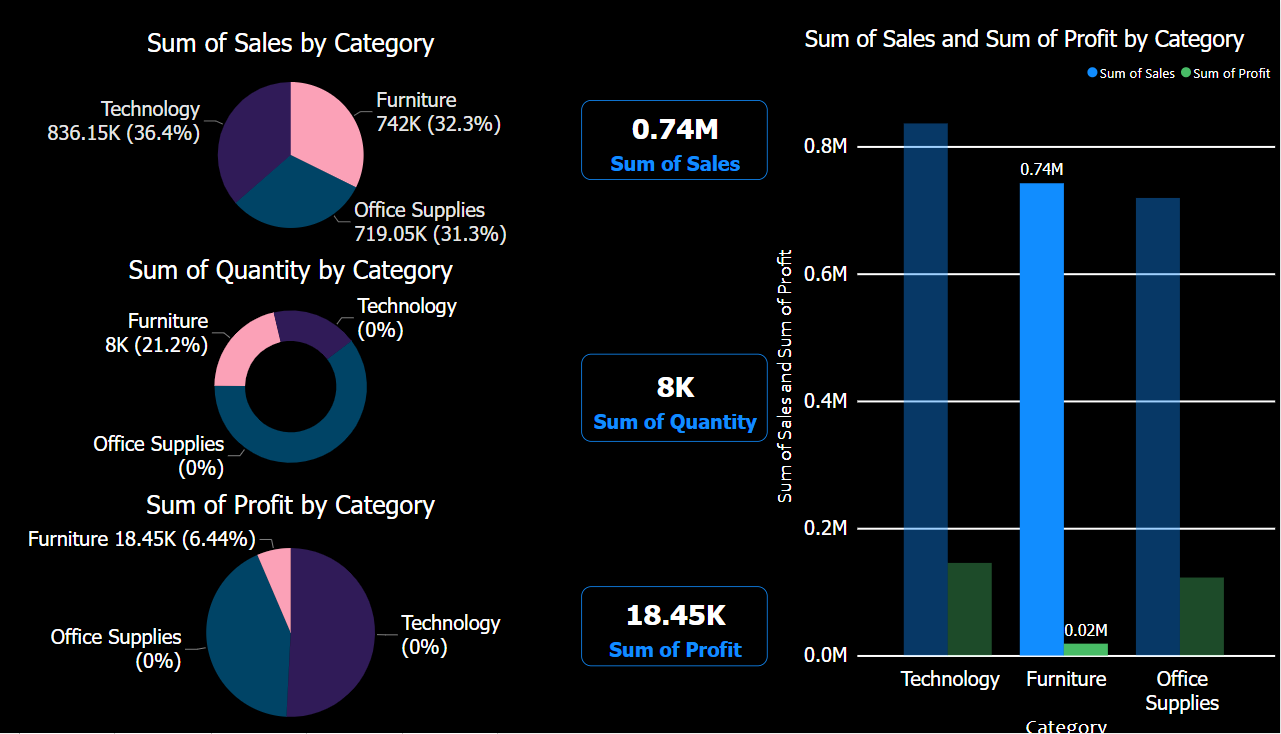

Layout of this report page (visuals, bound fields, positions):
{"tool":"powerbi","page":{"name":"Page 2","canvas":[1280,720],"ordinal":1},"visuals":[{"type":"pieChart","fields":{"Series":["Orders.Category"],"Y":["Sum(Orders.Sales)"]},"box":[0,1.7,581.7,226.7],"z":0},{"type":"donutChart","fields":{"Category":["Orders.Category"],"Y":["Sum(Orders.Quantity)"]},"box":[0,228.3,581.7,235],"z":1000},{"type":"pieChart","fields":{"Y":["Sum(Orders.Profit)"],"Category":["Orders.Category"]},"box":[0,463.3,581.7,256.7],"z":2000},{"type":"card","fields":{"Values":["Sum(Orders.Sales)"]},"box":[581.7,75,186.7,80],"z":3000},{"type":"clusteredColumnChart","fields":{"Category":["Orders.Category"],"Y":["Sum(Orders.Sales)","Sum(Orders.Profit)"]},"box":[768.3,0,511.7,720],"z":4000},{"type":"card","fields":{"Values":["Sum(Orders.Quantity)"]},"box":[581.7,328.3,186.7,88.3],"z":5000},{"type":"card","fields":{"Values":["Sum(Orders.Profit)"]},"box":[581.7,561.7,186.7,80],"z":6000}]}

Visuals, with their boxes in screenshot pixels (x1, y1, x2, y2), scaled from the page's 1280x720 canvas onto the 1281x734 screenshot:
pieChart - Orders.Category x Sum(Orders.Sales): (0, 2, 582, 233)
donutChart - Orders.Category x Sum(Orders.Quantity): (0, 233, 582, 472)
pieChart - Sum(Orders.Profit) x Orders.Category: (0, 472, 582, 733)
card - Sum(Orders.Sales): (582, 76, 769, 158)
clusteredColumnChart - Orders.Category x Sum(Orders.Sales): (769, 0, 1280, 733)
card - Sum(Orders.Quantity): (582, 335, 769, 425)
card - Sum(Orders.Profit): (582, 573, 769, 654)
